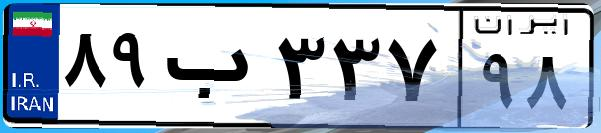3: (270, 28, 330, 110), (330, 28, 385, 110)
7: (385, 28, 445, 110)
8: (57, 26, 110, 100), (525, 38, 570, 115)
9: (475, 38, 525, 113), (110, 28, 158, 98)
ب: (158, 20, 270, 120)
